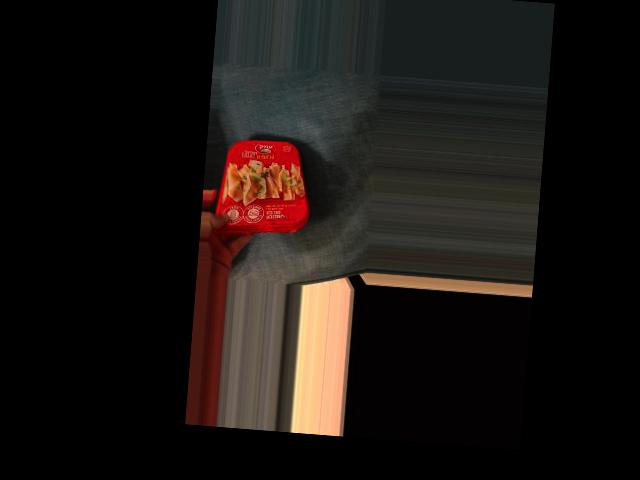cheese: (211, 133, 314, 245)
